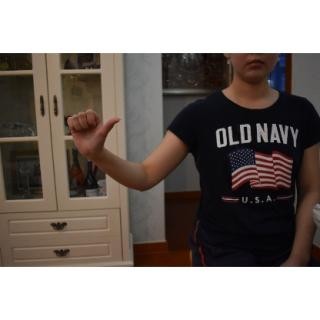DAD: (63, 106, 124, 159)
